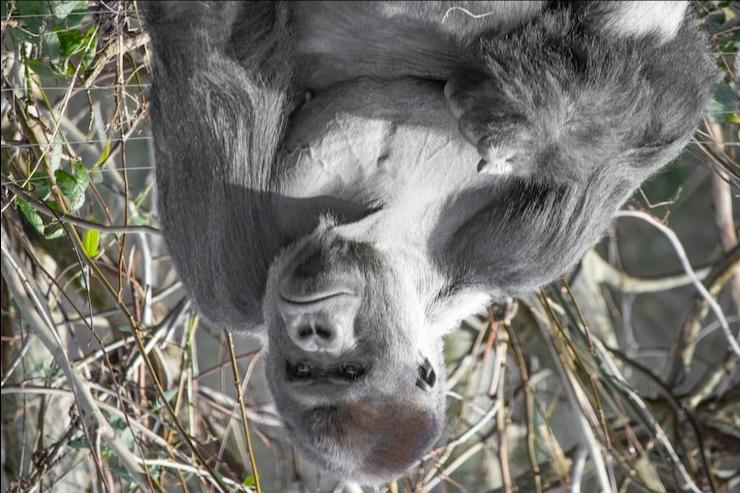gorille_Autres: (132, 0, 675, 493)
